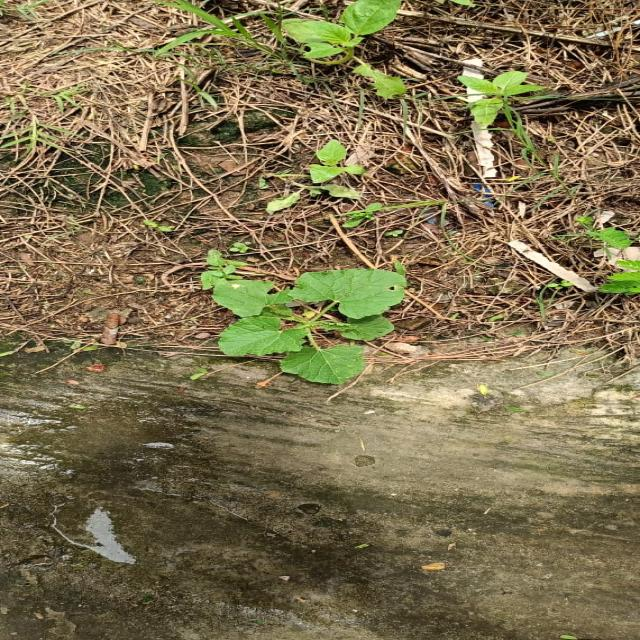plant: (202, 251, 404, 384), (281, 0, 399, 61), (458, 71, 542, 121), (306, 140, 362, 182), (601, 261, 640, 294), (581, 228, 634, 248)
